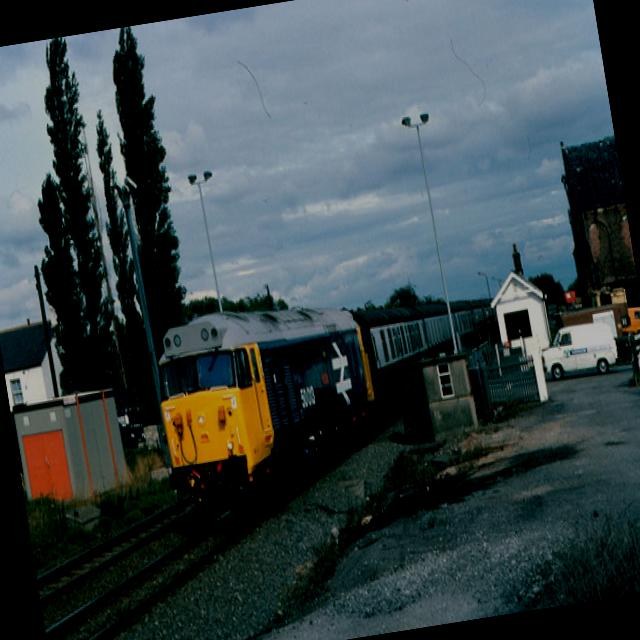Vehicle: (538, 318, 624, 385), (552, 298, 640, 345), (118, 415, 138, 448), (618, 304, 640, 332)
